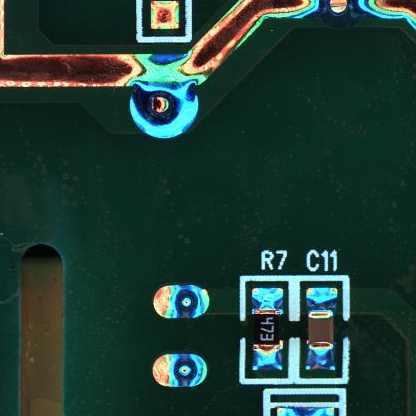spot: (129, 74, 199, 139), (152, 284, 211, 319), (151, 354, 208, 386)
